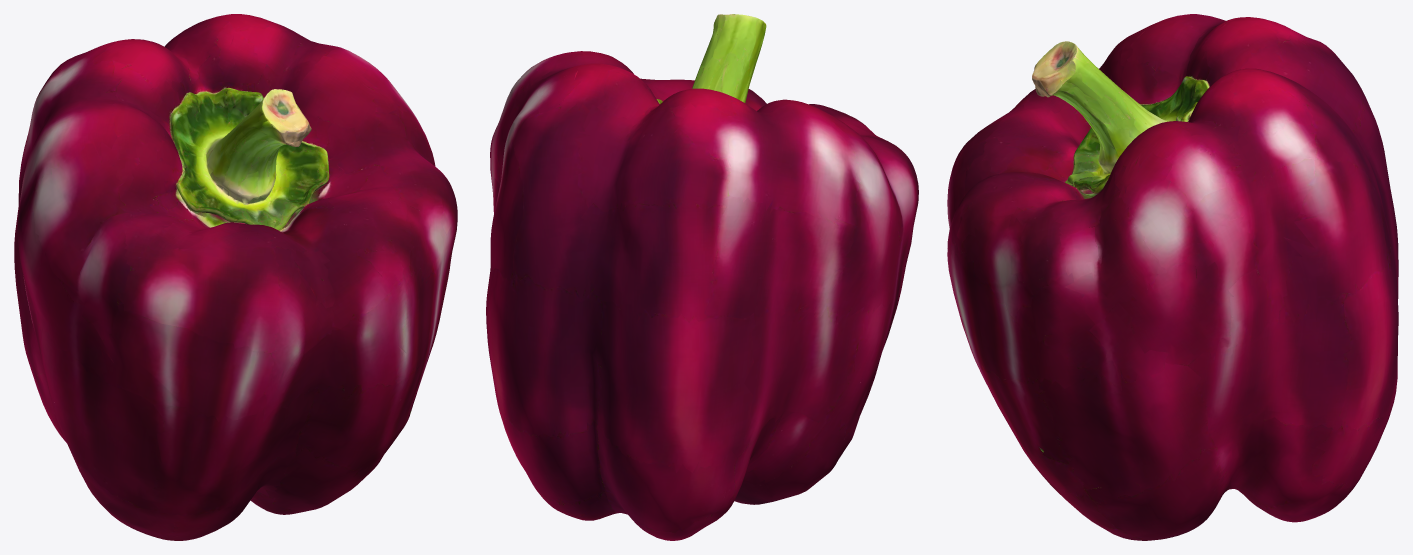
The model's file is kitchen-bell-pepper-08.glb.
3 views of the same model, side by side, from view 1: azimuth 30°, elevation 25°; view 2: azimuth 150°, elevation 25°; view 3: azimuth 270°, elevation 25° (orthographic). The views are drawn at different scales.
Size of the model in its own units: 1.69 by 1.9 by 1.67.
1 material, 1 textured.
